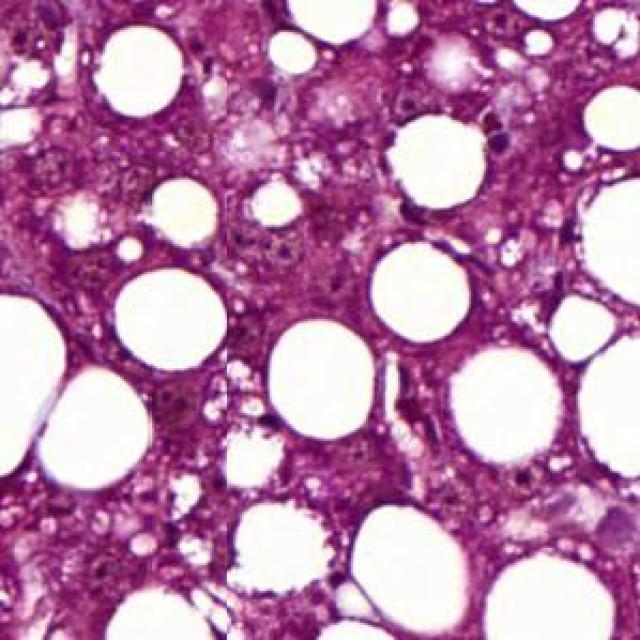steatosis: (342, 503, 480, 640), (270, 319, 385, 445), (105, 263, 231, 375), (368, 238, 471, 340), (90, 26, 193, 126)
